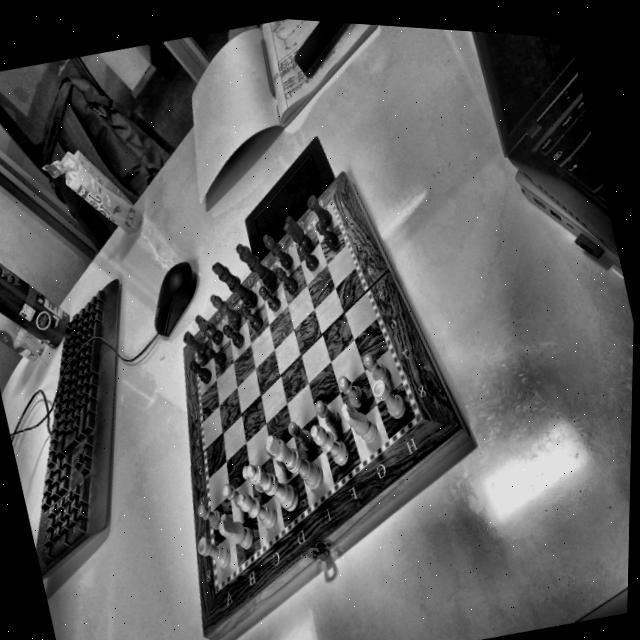black-bishop: (205, 288, 243, 329), (260, 228, 293, 271)
black-king: (209, 252, 258, 315)
black-knight: (278, 208, 311, 254), (192, 306, 222, 346)
black-pawn: (309, 215, 342, 256), (215, 318, 248, 355), (293, 238, 322, 278), (253, 280, 283, 316), (236, 300, 266, 336), (184, 354, 213, 389), (270, 262, 298, 298), (200, 340, 227, 374)
black-queen: (232, 238, 277, 295)
black-rook: (301, 185, 334, 230), (177, 327, 206, 360)
white-bishop: (310, 414, 352, 472), (234, 486, 276, 537)
white-king: (259, 424, 326, 503)
white-knight: (210, 499, 255, 555), (336, 396, 381, 448)
white-pawn: (332, 362, 367, 413), (358, 345, 392, 385), (310, 389, 340, 433), (283, 413, 314, 455), (192, 494, 224, 531), (216, 478, 244, 511)
white-queen: (240, 450, 299, 521)
white-rook: (365, 371, 412, 431), (192, 528, 231, 574)
